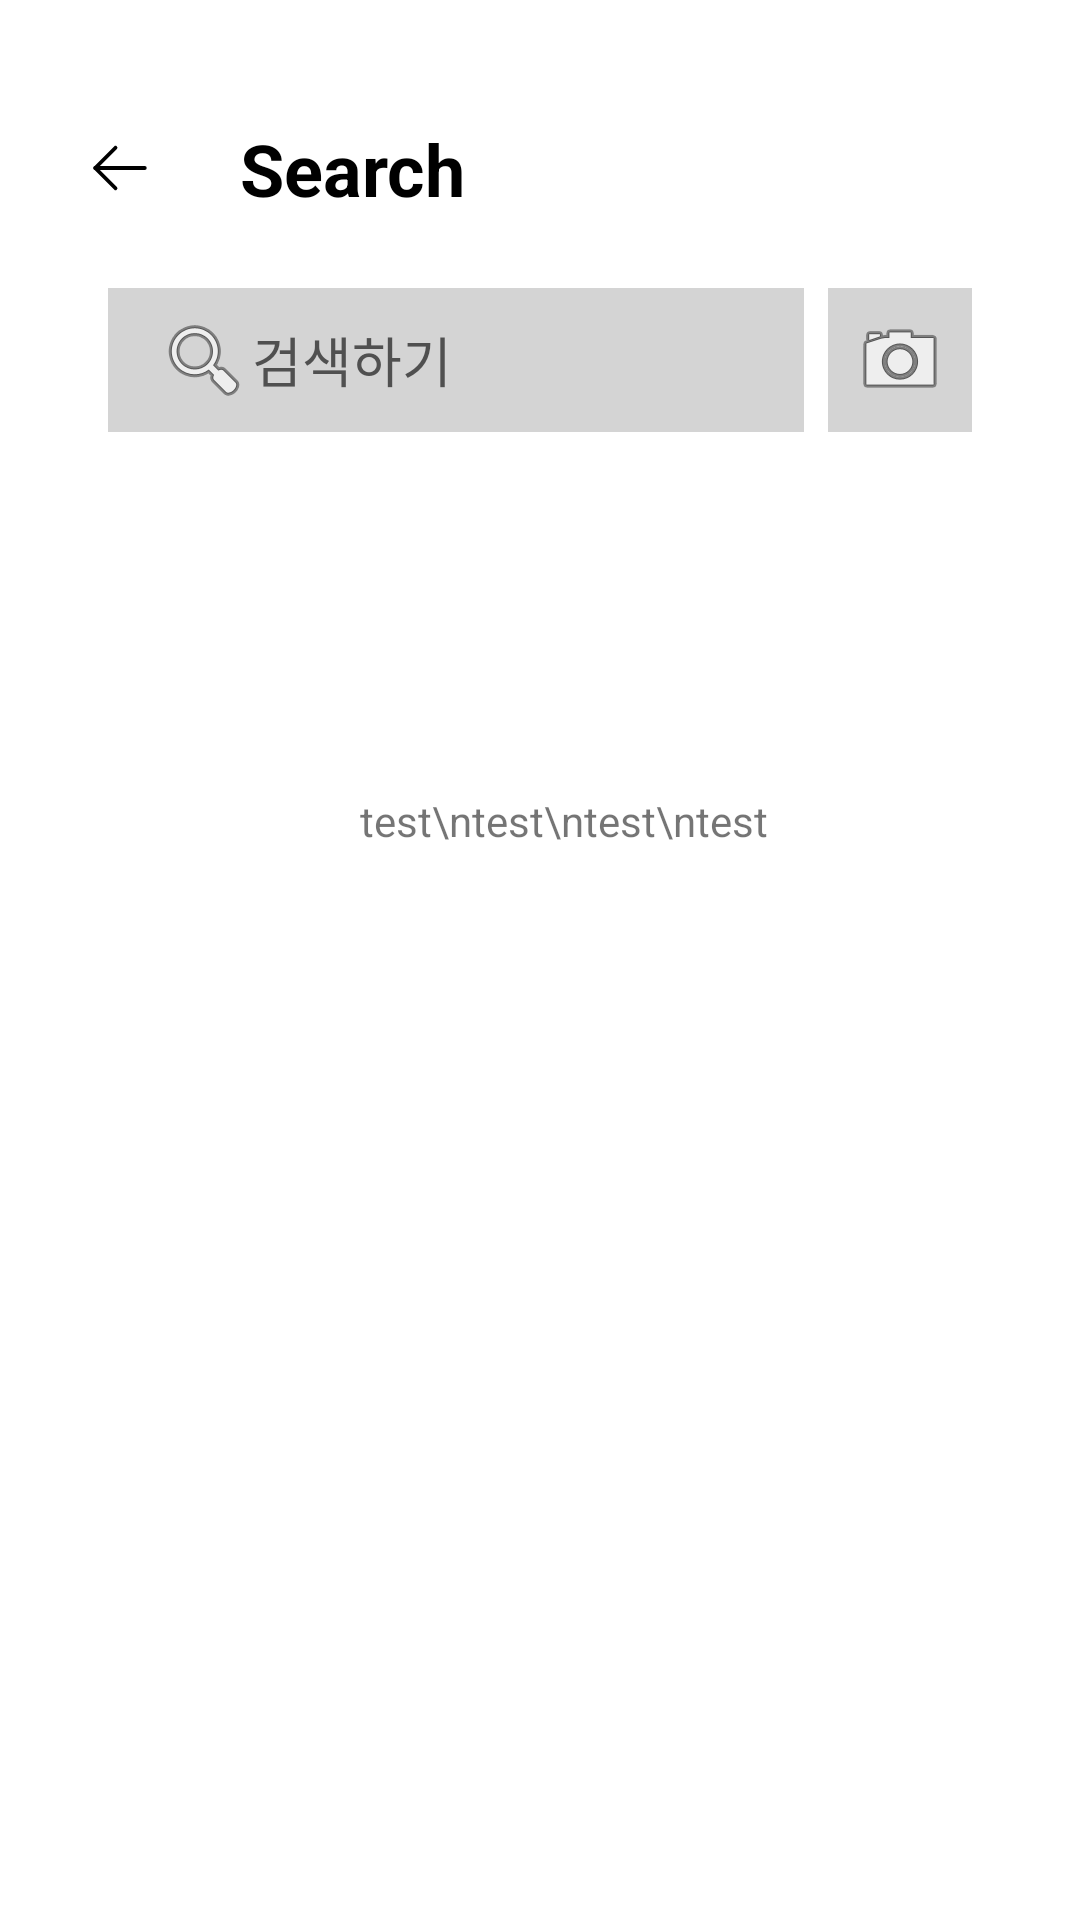

Screen size 1080 × 1920. Icon name, then its center in pixels as point (x, y):
Back: point (120, 168)
camera: point (900, 360)
